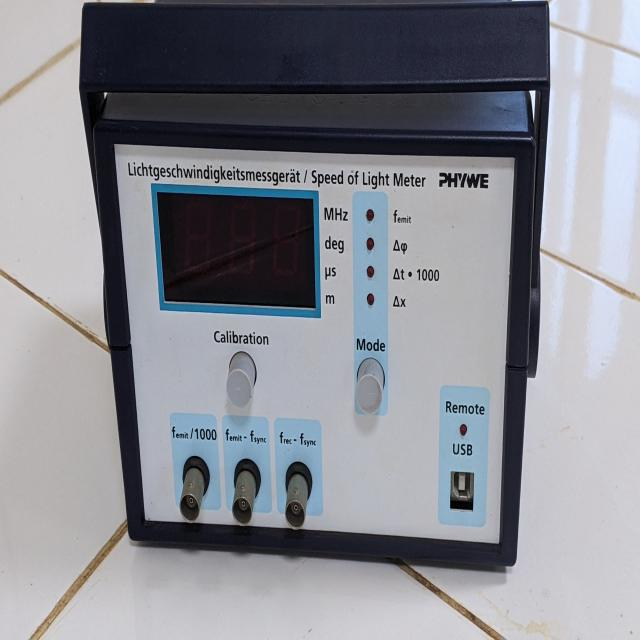Power Supply of Speed of Light Demo: (71, 7, 562, 585)
